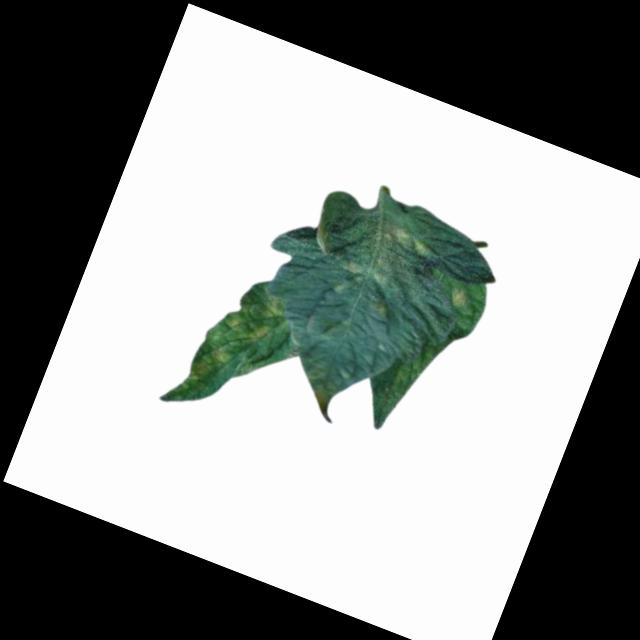Leaf_Mold: (177, 272, 297, 424), (336, 208, 439, 302), (442, 281, 472, 312)
